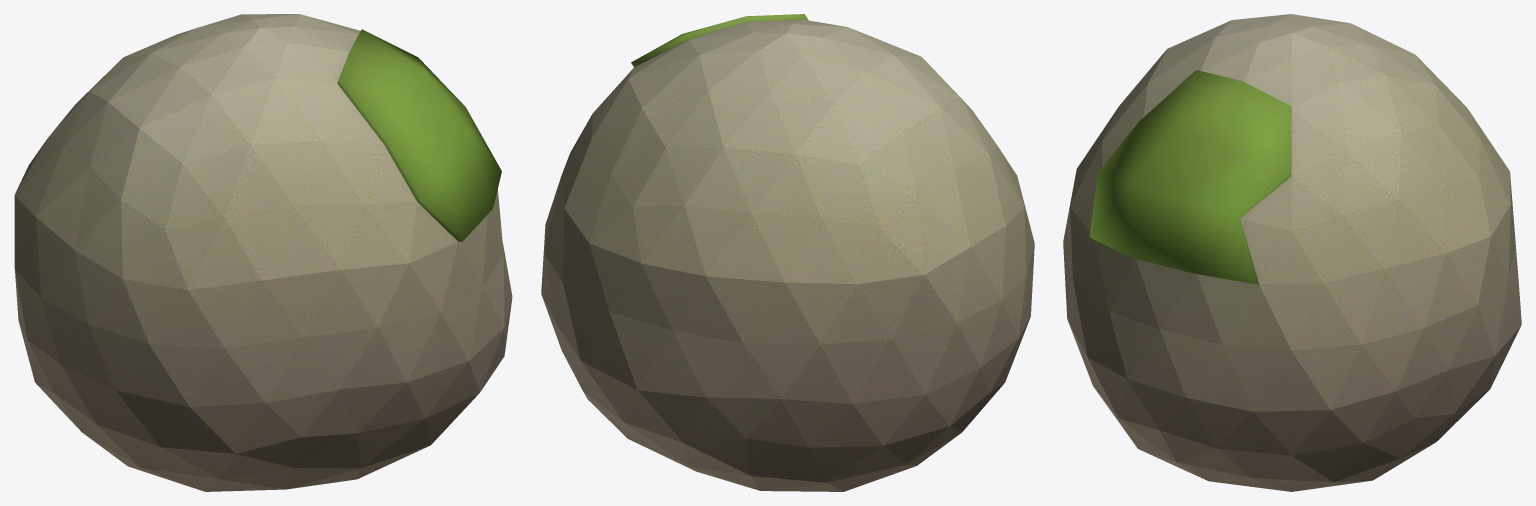
The model's file is rock_2_high.glb.
3 renders of one model, left to right at view 1: azimuth 30°, elevation 25°; view 2: azimuth 150°, elevation 25°; view 3: azimuth 270°, elevation 25°, orthographic. The views are drawn at different scales.
Visible parts, largest first — view 1: rock_2; view 2: rock_2; view 3: rock_2.
Boxes of the visible parts, left/top/right/bottom form: rock_2: left=14, top=14, right=512, bottom=491; rock_2: left=541, top=14, right=1034, bottom=491; rock_2: left=1063, top=14, right=1521, bottom=491.
Bounding box in the file's own units: 0.6268 × 0.5912 × 0.5798.
1 material, 1 textured.
